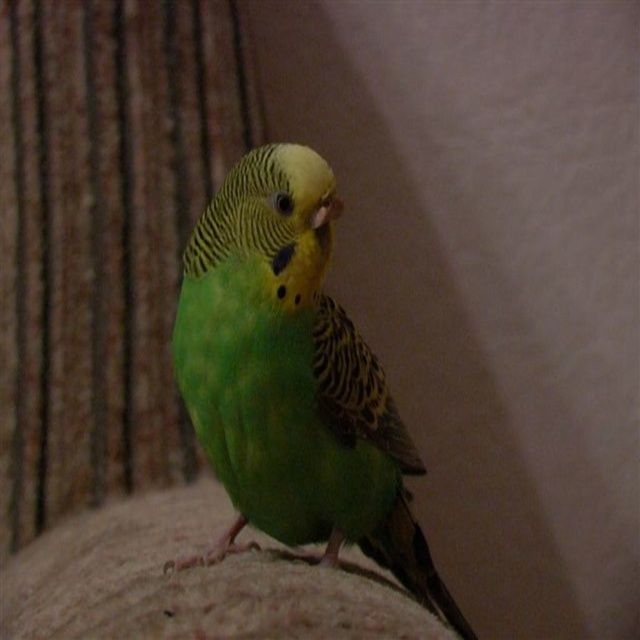Parrot: (162, 140, 476, 639)
